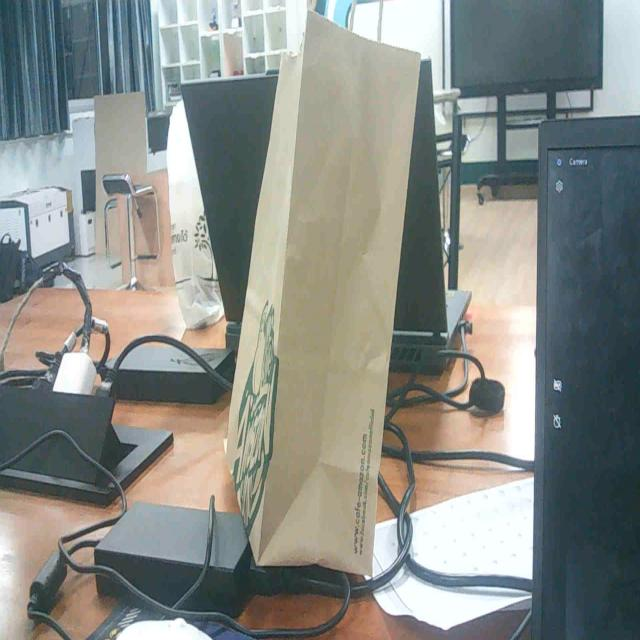bag: (211, 17, 435, 565)
